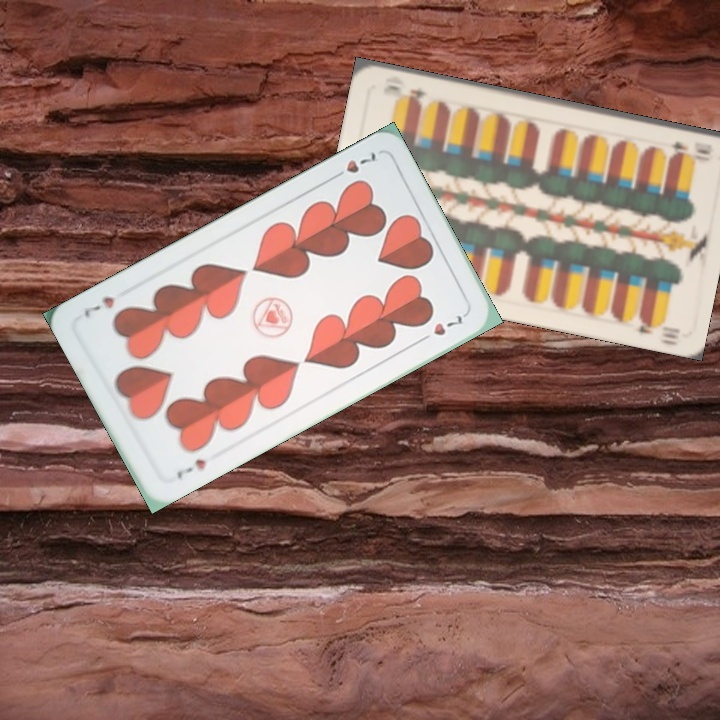E10: (667, 137, 716, 159)
H7: (327, 148, 379, 183), (172, 455, 209, 482)
